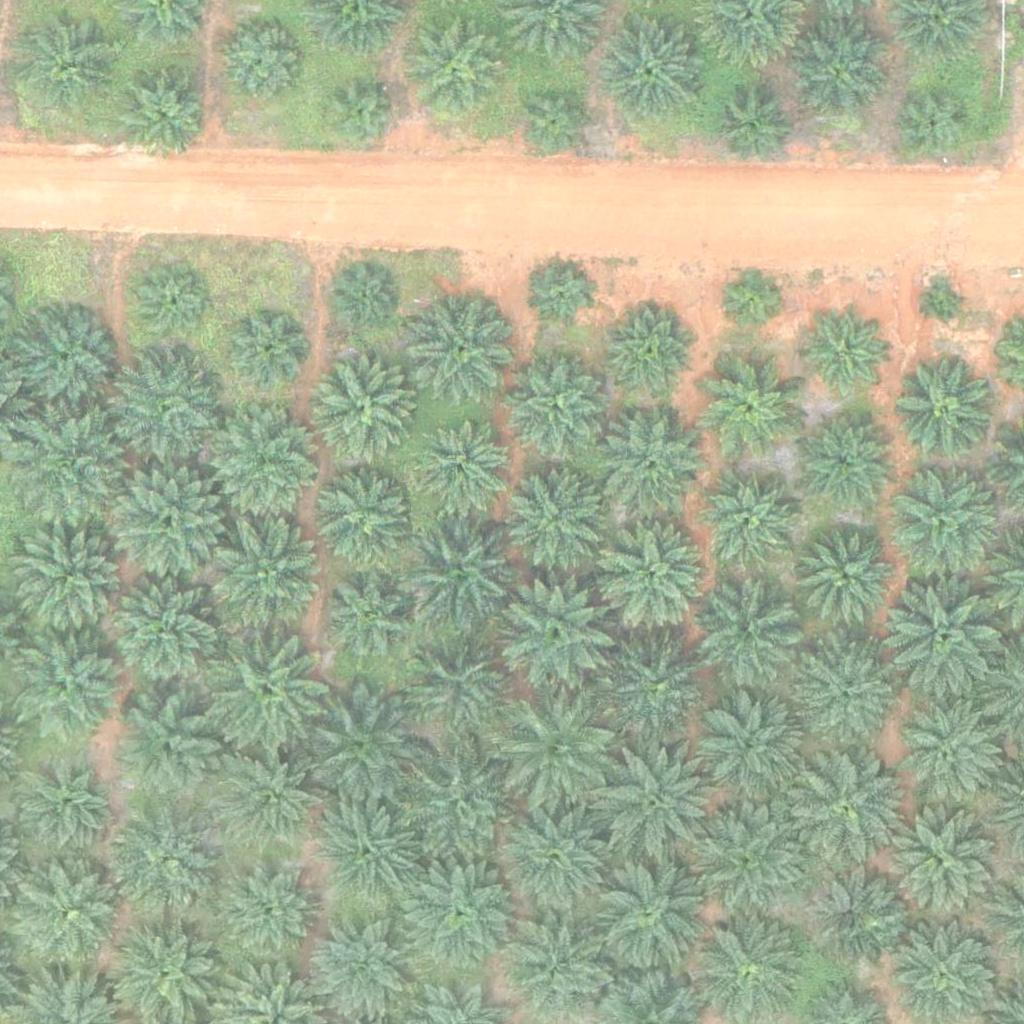Kelapa_Sawit: (10, 406, 135, 532), (104, 571, 229, 697), (205, 513, 330, 639), (204, 628, 329, 754), (300, 684, 425, 810), (396, 504, 521, 630), (395, 623, 520, 749), (395, 739, 520, 865), (496, 573, 621, 699), (494, 691, 619, 817), (591, 739, 716, 865), (879, 577, 1004, 703), (587, 853, 712, 979), (494, 793, 619, 919), (397, 850, 522, 976), (592, 516, 717, 641), (782, 747, 907, 872), (689, 796, 814, 921), (16, 524, 129, 638), (108, 809, 221, 923), (14, 629, 127, 742), (7, 747, 120, 860), (108, 695, 221, 808), (208, 406, 321, 519), (111, 462, 223, 576), (216, 741, 328, 855), (106, 347, 218, 460), (888, 460, 1000, 573), (891, 696, 1003, 809), (13, 858, 125, 971), (789, 21, 889, 122), (602, 19, 702, 120), (406, 18, 506, 119), (313, 356, 413, 457), (312, 471, 412, 572), (415, 297, 515, 398), (409, 418, 509, 519), (506, 354, 606, 455), (506, 466, 606, 567), (601, 411, 701, 512), (609, 638, 709, 739), (703, 358, 803, 459), (698, 473, 798, 574), (699, 587, 799, 688), (703, 691, 803, 792), (795, 410, 895, 511), (797, 526, 897, 627), (794, 642, 894, 743), (891, 814, 991, 915), (803, 865, 903, 966), (512, 917, 612, 1018), (113, 62, 213, 162), (19, 12, 119, 112), (14, 310, 114, 410), (319, 567, 419, 667), (895, 355, 995, 455), (318, 798, 418, 898), (309, 919, 409, 1019), (216, 865, 316, 965), (218, 18, 306, 106), (800, 310, 888, 398), (612, 307, 699, 395), (135, 268, 210, 344), (898, 85, 973, 161), (324, 77, 399, 153), (232, 312, 307, 387), (716, 91, 791, 166), (520, 85, 595, 160), (333, 266, 396, 329), (533, 264, 595, 327), (719, 265, 781, 328), (926, 285, 963, 323)
